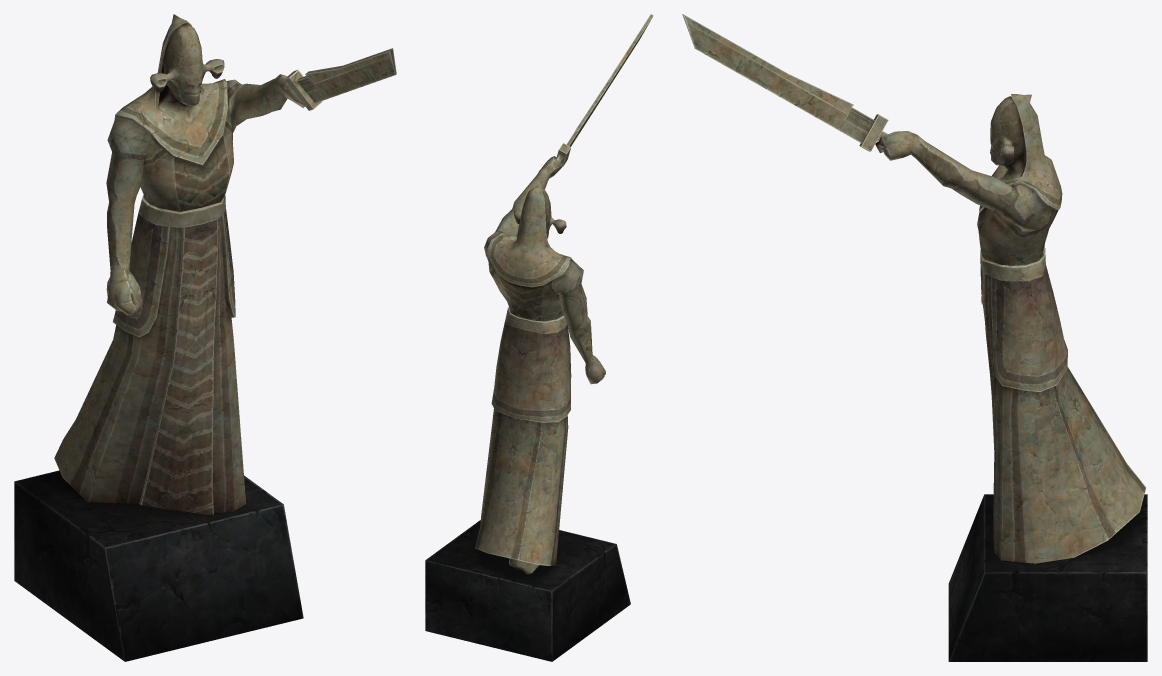
Rendered from bel_arch_rakata_statue_03.glb.
3 renders of one model, left to right at view 1: azimuth 30°, elevation 25°; view 2: azimuth 150°, elevation 25°; view 3: azimuth 270°, elevation 25°, orthographic. The views are drawn at different scales.
Visible parts, largest first — view 1: bel_arch_rakata_statue_03; view 2: bel_arch_rakata_statue_03; view 3: bel_arch_rakata_statue_03.
Part boxes in pixels (<box>): bel_arch_rakata_statue_03: <box>14,14,396,661</box>; bel_arch_rakata_statue_03: <box>425,14,653,661</box>; bel_arch_rakata_statue_03: <box>682,14,1147,661</box>.
Bounding box in the file's own units: 0.3448 × 1.28 × 0.8666.
1 material, 1 textured.
